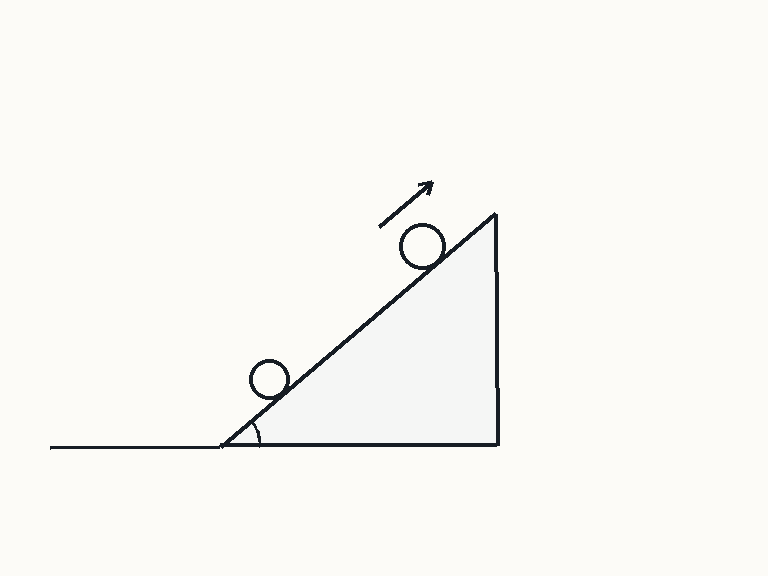ball: (397, 221, 447, 271), (247, 357, 291, 401)
ramp: (218, 212, 499, 448)
